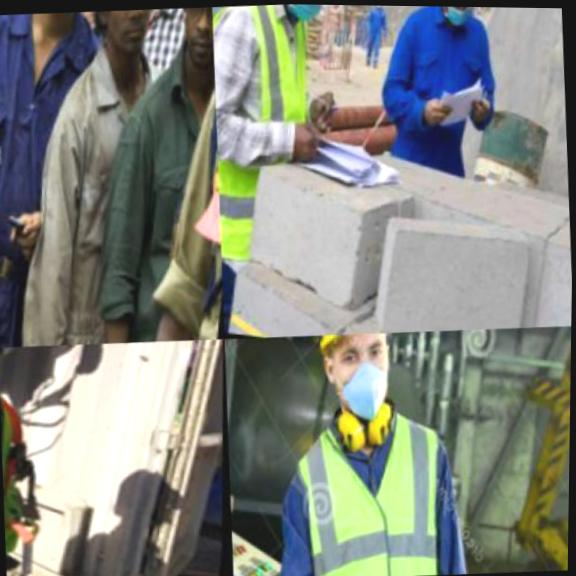safety_vest: (256, 389, 482, 576), (0, 10, 115, 348), (209, 3, 349, 272), (0, 344, 66, 576)
